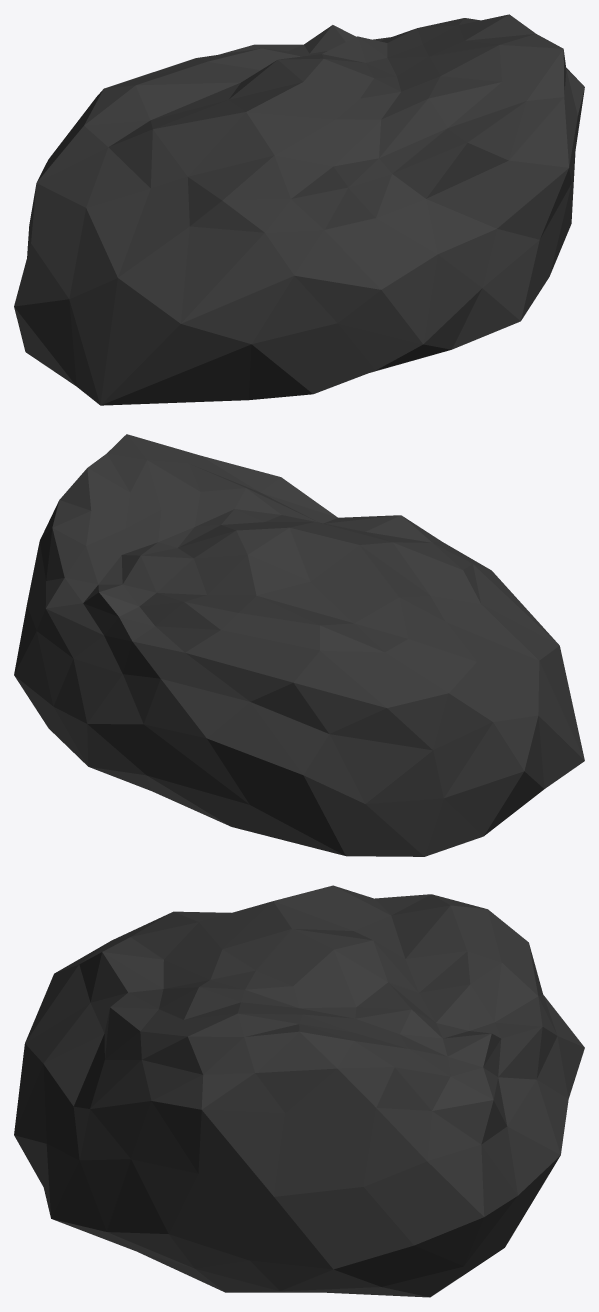
The model's file is Rock1.fbx.
3 views of the same model, one above another, from view 1: azimuth 30°, elevation 25°; view 2: azimuth 150°, elevation 25°; view 3: azimuth 270°, elevation 25° (orthographic). The views are drawn at different scales.
Visible parts, largest first — view 1: Icosphere; view 2: Icosphere; view 3: Icosphere.
Part boxes in pixels (bbox=[...]): Icosphere: bbox=[14, 14, 584, 405]; Icosphere: bbox=[14, 434, 584, 856]; Icosphere: bbox=[14, 885, 584, 1297].
Bounding box in the file's own units: 450 × 227 × 369.
1 material, 1 textured.
